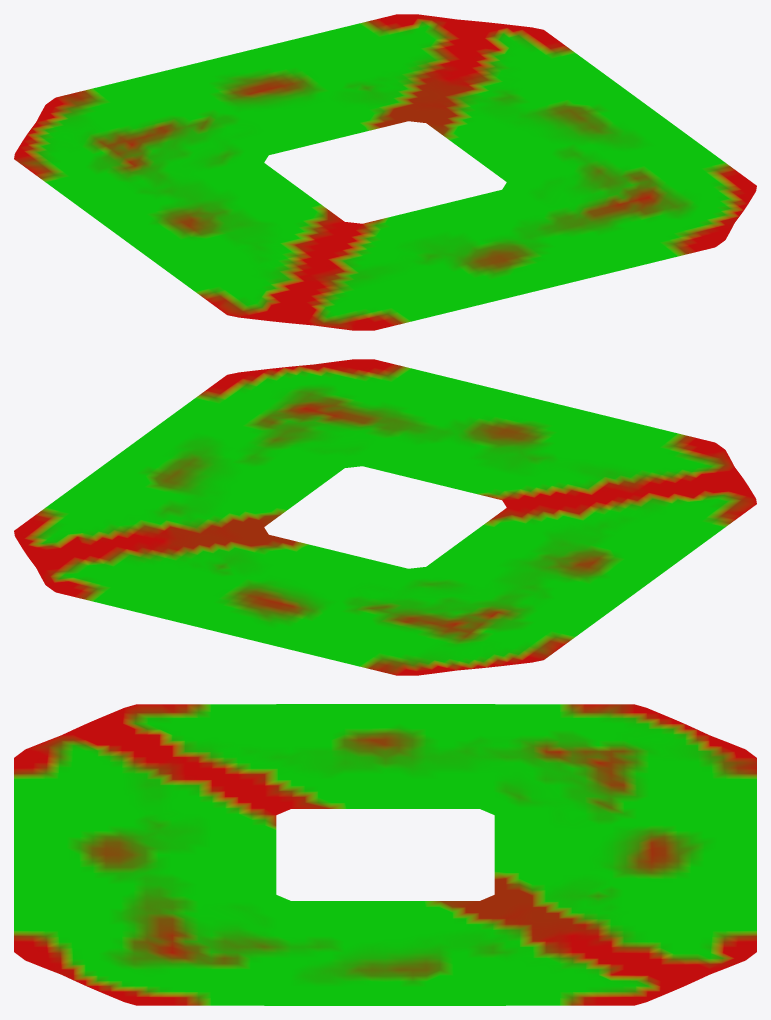
File: pref_sm_garden_terrain_yellowgrass02a_lv3.fbx
The picture shows the model from 3 angles, top to bottom: view 1: azimuth 30°, elevation 25°; view 2: azimuth 150°, elevation 25°; view 3: azimuth 270°, elevation 25°; orthographic projection. The views are drawn at different scales.
Parts seen in each view (by area): view 1: pref_sm_garden_terrain_yellowgrass02a_lv3; view 2: pref_sm_garden_terrain_yellowgrass02a_lv3; view 3: pref_sm_garden_terrain_yellowgrass02a_lv3.
Part boxes in pixels (bbox=[...]): pref_sm_garden_terrain_yellowgrass02a_lv3: bbox=[14, 14, 756, 330]; pref_sm_garden_terrain_yellowgrass02a_lv3: bbox=[14, 359, 756, 675]; pref_sm_garden_terrain_yellowgrass02a_lv3: bbox=[14, 704, 756, 1005].
Size of the model in its own units: 43.04 by 0.000165 by 44.8.
